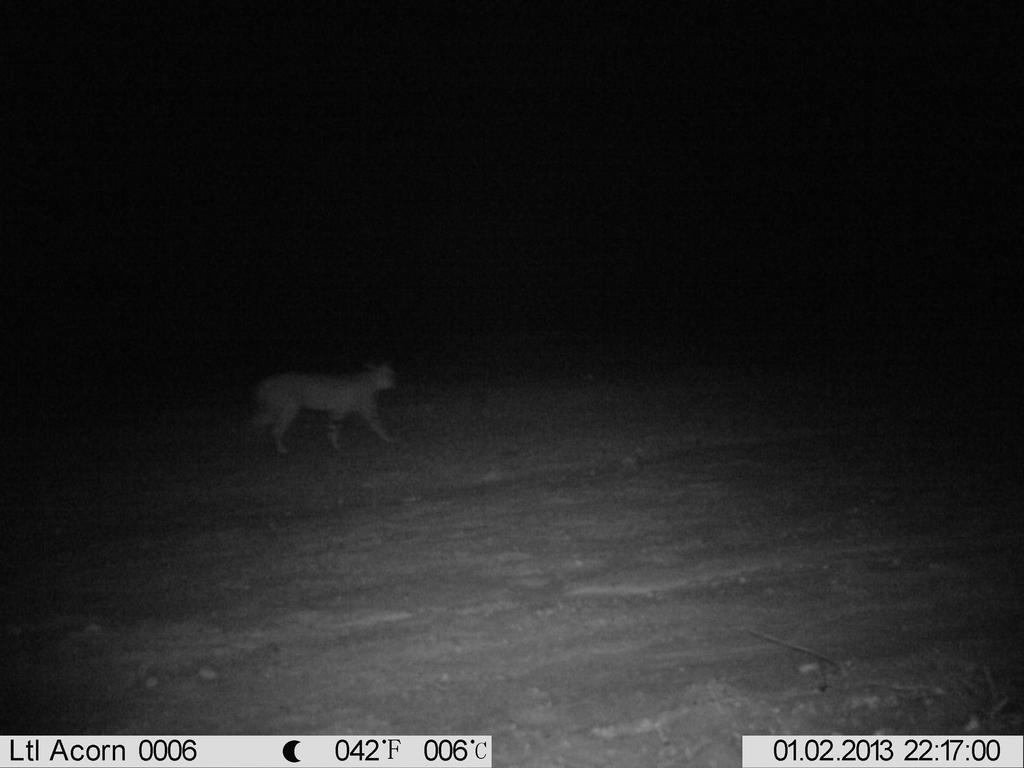bobcat: (232, 347, 419, 461)
